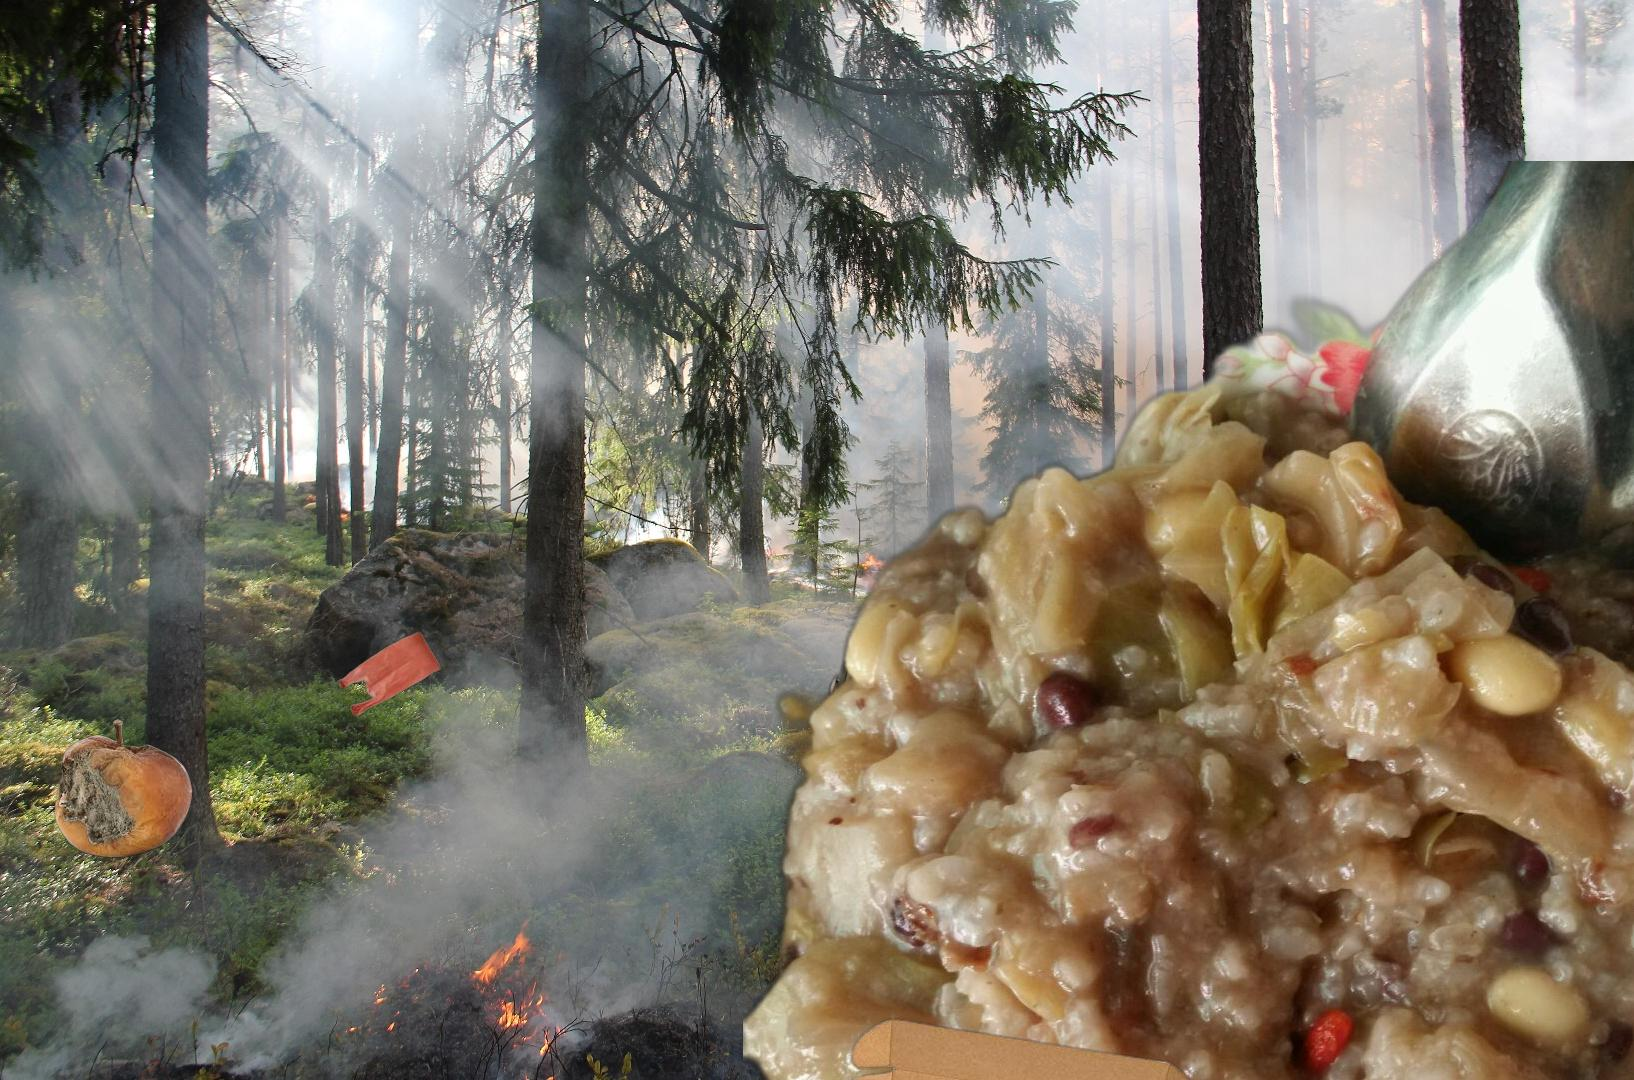battery: (1107, 567, 1559, 1061)
biological: (743, 162, 1634, 1080), (51, 716, 195, 861)
clothes: (1165, 617, 1634, 1006)
metal-cans: (816, 648, 1004, 792)
plastic-bag: (336, 629, 445, 720)
trashbox-cardboard: (822, 1014, 1205, 1080)
